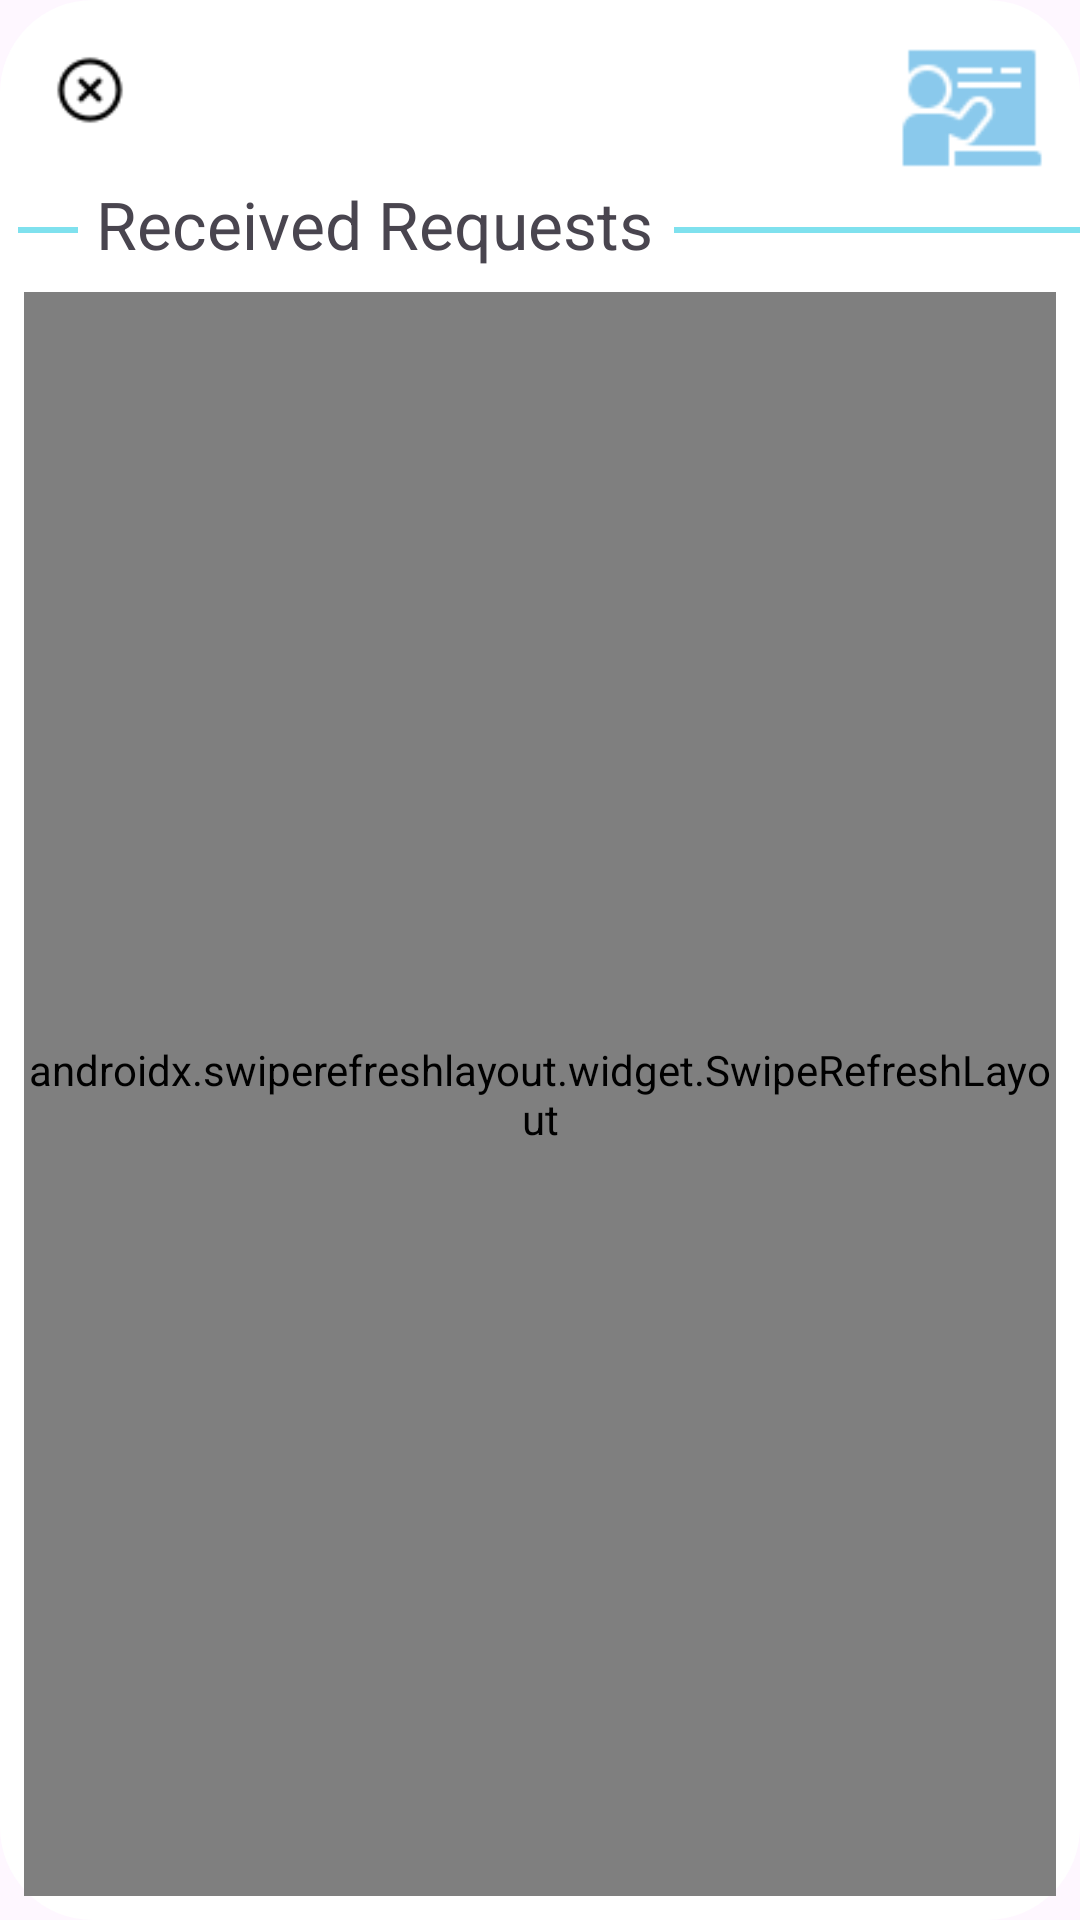

Screen size 1080 x 1920. Icon name, then its center in pixels as (x,y):
close: (90,90)
